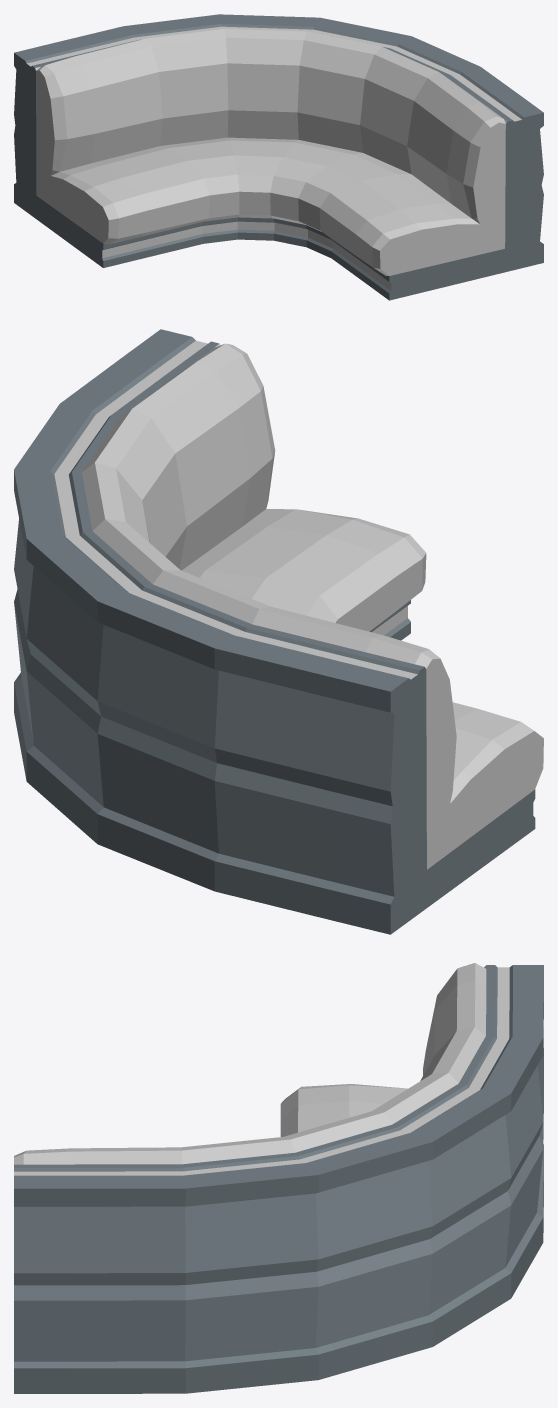
File: SM_Prop_Sofa_02_Corner_03.fbx
3 renders of one model, top to bottom at view 1: azimuth 30°, elevation 25°; view 2: azimuth 150°, elevation 25°; view 3: azimuth 270°, elevation 25°, orthographic. The views are drawn at different scales.
Visible parts, largest first — view 1: SM_Prop_Sofa_02_Corner_03; view 2: SM_Prop_Sofa_02_Corner_03; view 3: SM_Prop_Sofa_02_Corner_03.
Boxes of the visible parts, x1,y1,x2,y2 form: SM_Prop_Sofa_02_Corner_03: [14, 14, 543, 300]; SM_Prop_Sofa_02_Corner_03: [14, 329, 543, 934]; SM_Prop_Sofa_02_Corner_03: [14, 963, 543, 1393].
Size of the model in its own units: 250 by 111 by 250.
